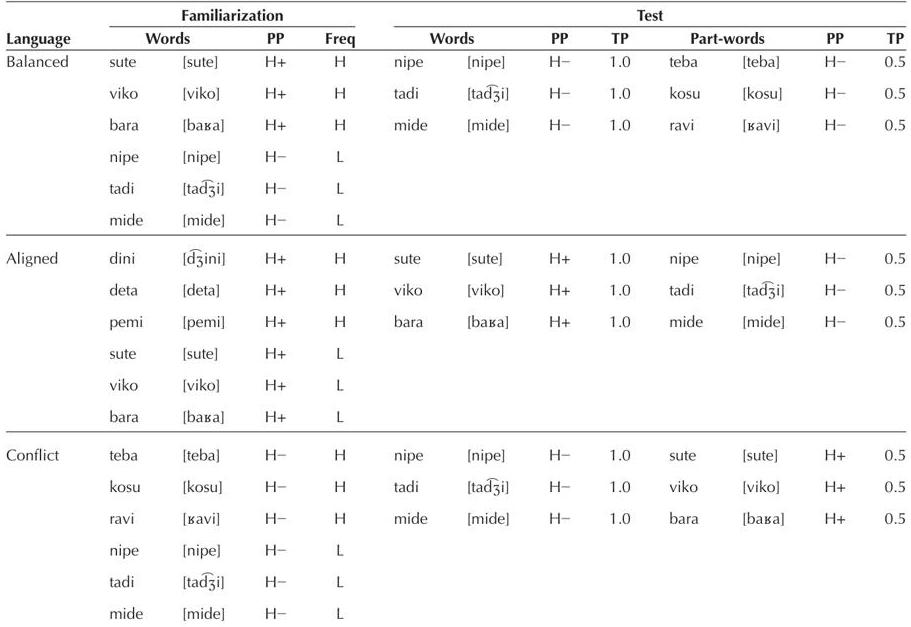table: (5, 5, 905, 622)
table column: (5, 5, 89, 622), (161, 5, 244, 622), (721, 5, 804, 622), (446, 5, 528, 622), (89, 5, 161, 622), (374, 5, 446, 622), (649, 5, 721, 622), (305, 5, 374, 622), (244, 5, 305, 622), (528, 5, 589, 622), (589, 5, 649, 622), (804, 5, 864, 622), (864, 5, 905, 622)
table column header: (5, 5, 905, 48)
table row: (5, 237, 905, 273), (5, 400, 905, 435), (5, 203, 905, 237), (5, 435, 905, 469), (5, 76, 905, 108), (5, 108, 905, 140), (5, 171, 905, 203), (5, 273, 905, 305), (5, 305, 905, 337), (5, 368, 905, 400), (5, 469, 905, 501), (5, 501, 905, 533), (5, 564, 905, 596), (5, 140, 905, 171), (5, 337, 905, 368), (5, 533, 905, 564), (5, 48, 905, 76), (5, 596, 905, 622), (5, 26, 905, 48), (5, 5, 905, 26)
table spanning cell: (5, 237, 89, 435), (5, 48, 89, 237), (5, 435, 89, 622), (374, 5, 905, 26), (89, 5, 374, 26), (5, 5, 89, 48), (89, 26, 244, 48), (649, 26, 804, 48), (374, 26, 528, 48)
